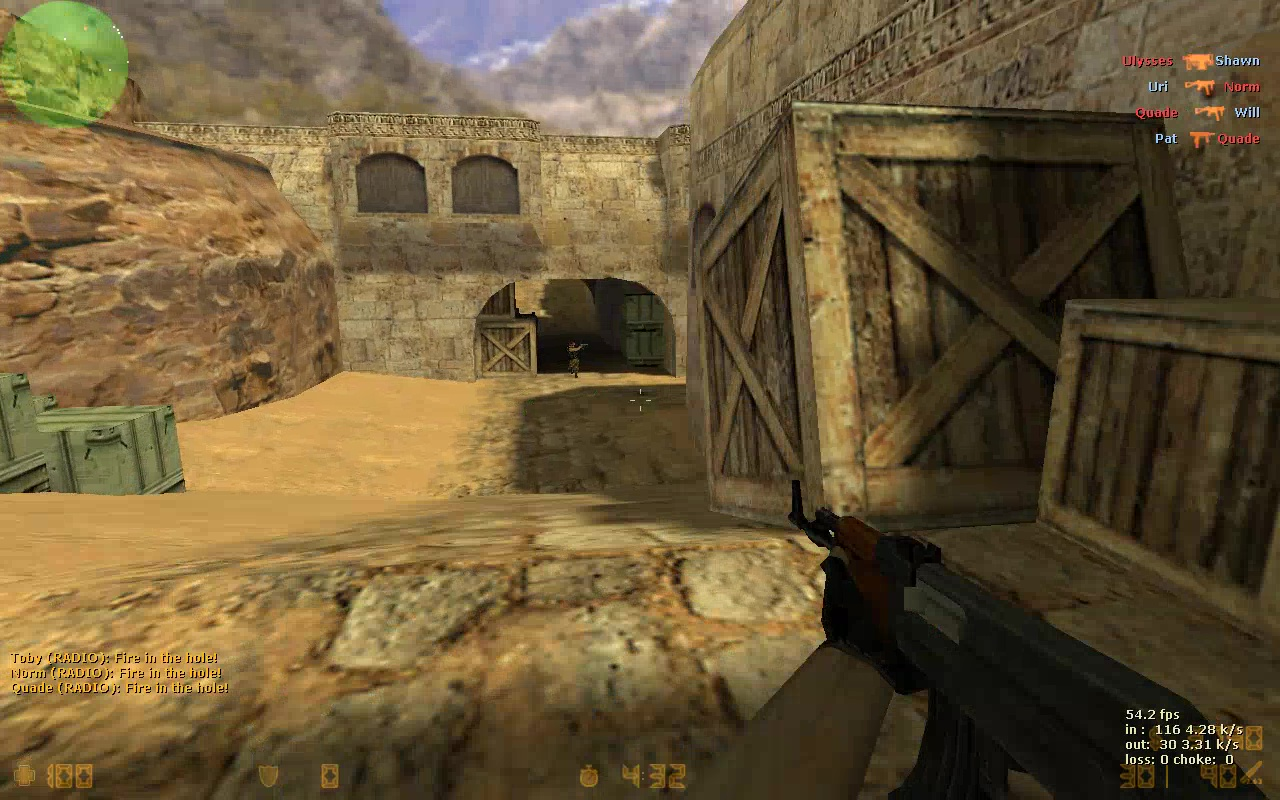terr1: (564, 340, 589, 376)
